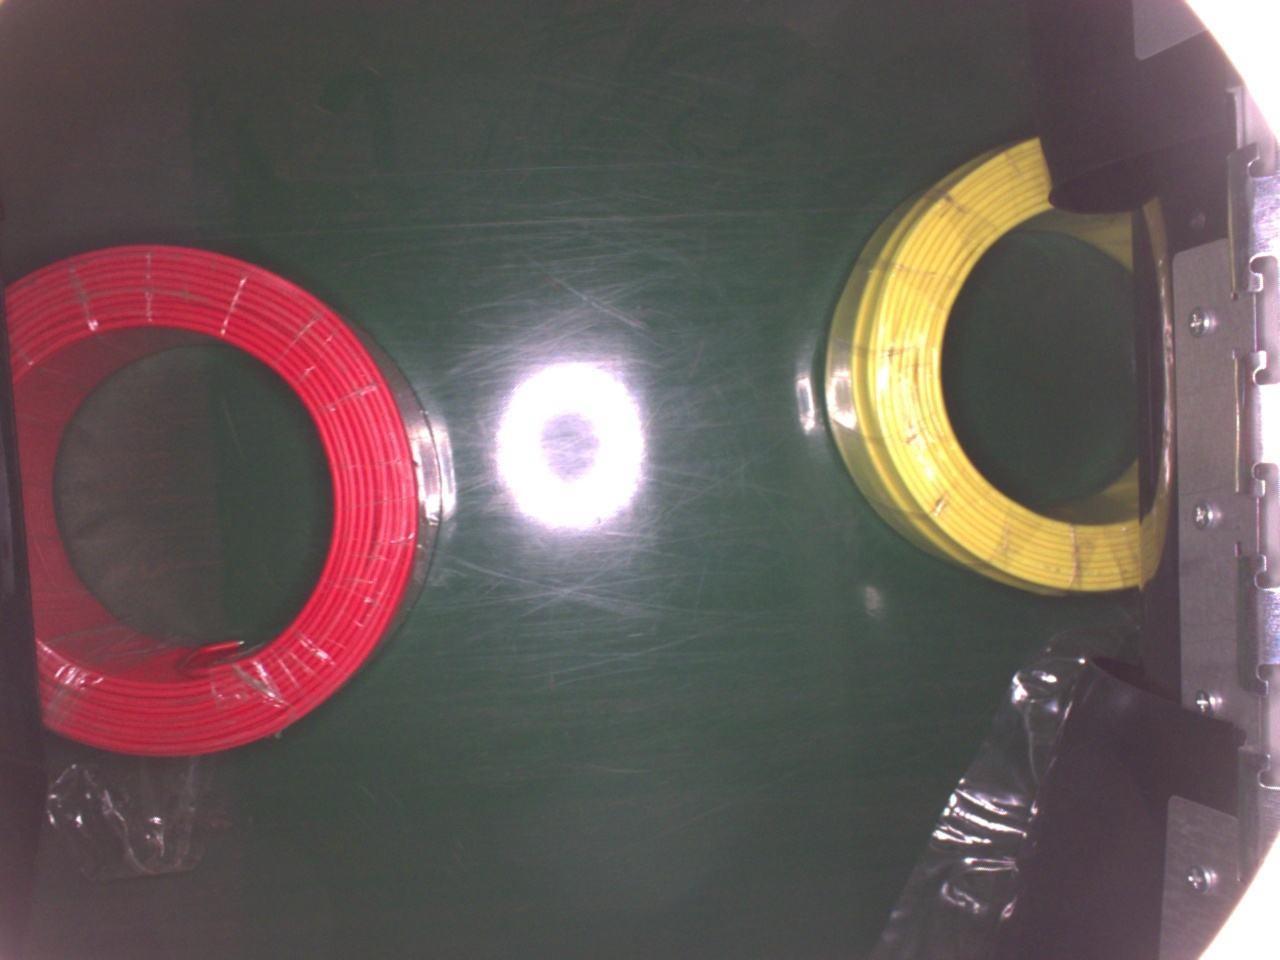red: (0, 246, 444, 761)
yellow: (808, 137, 1157, 596)
